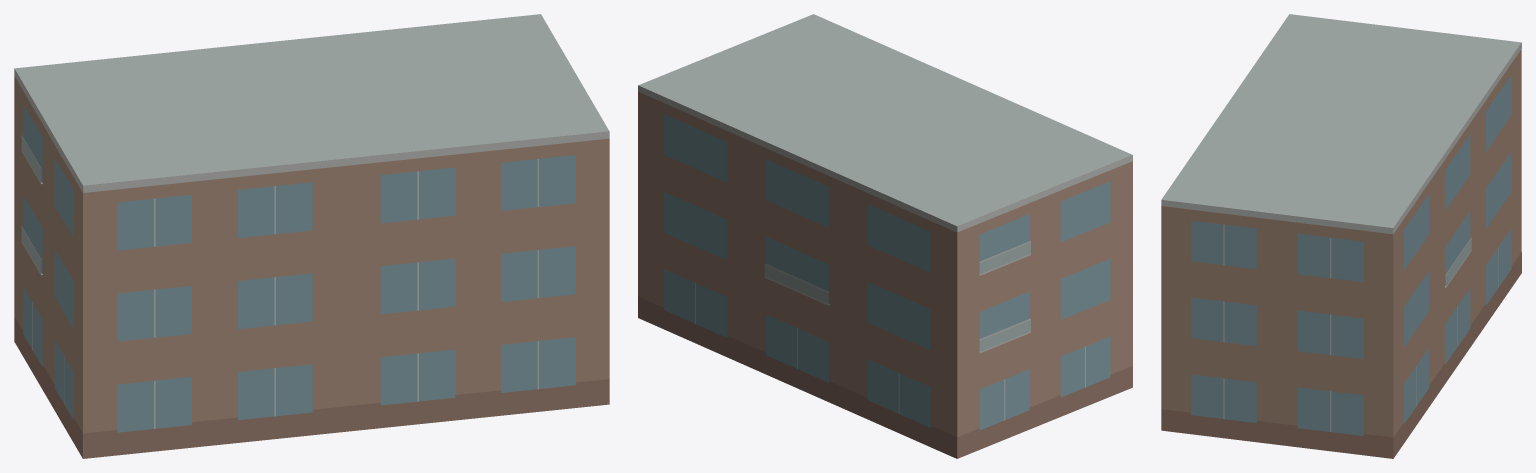
The model's file is survey-upis-32707507.glb.
3 renders of one model, left to right at view 1: azimuth 30°, elevation 25°; view 2: azimuth 150°, elevation 25°; view 3: azimuth 270°, elevation 25°, orthographic. The views are drawn at different scales.
Visible parts, largest first — view 1: survey-upis-32707507.tmp; view 2: survey-upis-32707507.tmp; view 3: survey-upis-32707507.tmp.
Boxes of the visible parts, <box> form: survey-upis-32707507.tmp: <box>14,14,609,458</box>; survey-upis-32707507.tmp: <box>638,14,1132,458</box>; survey-upis-32707507.tmp: <box>1161,14,1521,458</box>.
Bounding box in the file's own units: 18.22 × 9.15 × 12.97.
